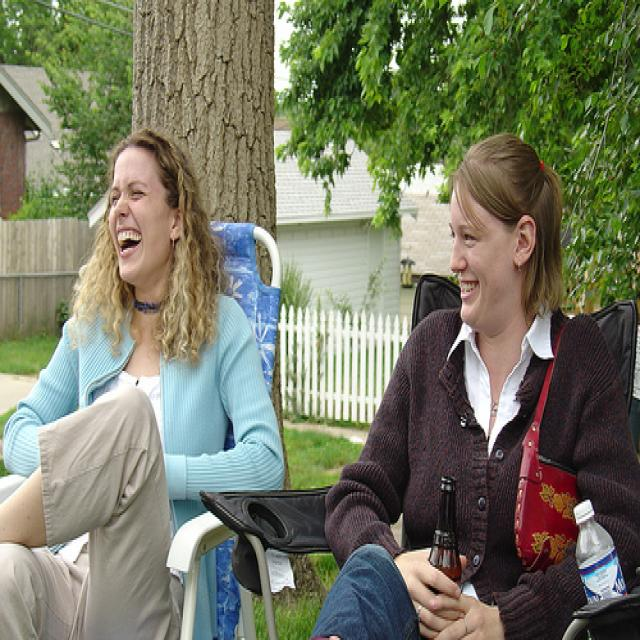bottle: (574, 499, 631, 603), (429, 472, 466, 585)
chair: (199, 272, 640, 639), (165, 218, 283, 639)
person: (317, 132, 640, 639), (1, 131, 286, 639)
